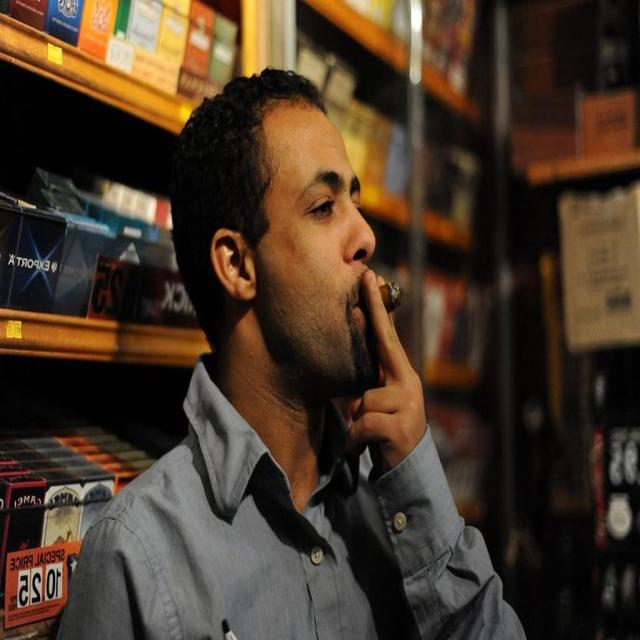smoking: (173, 61, 423, 472)
